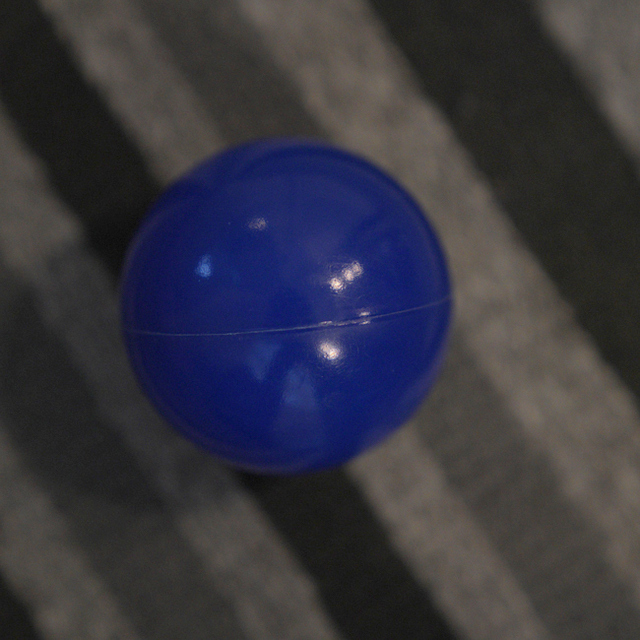Ball: (121, 138, 453, 475)
